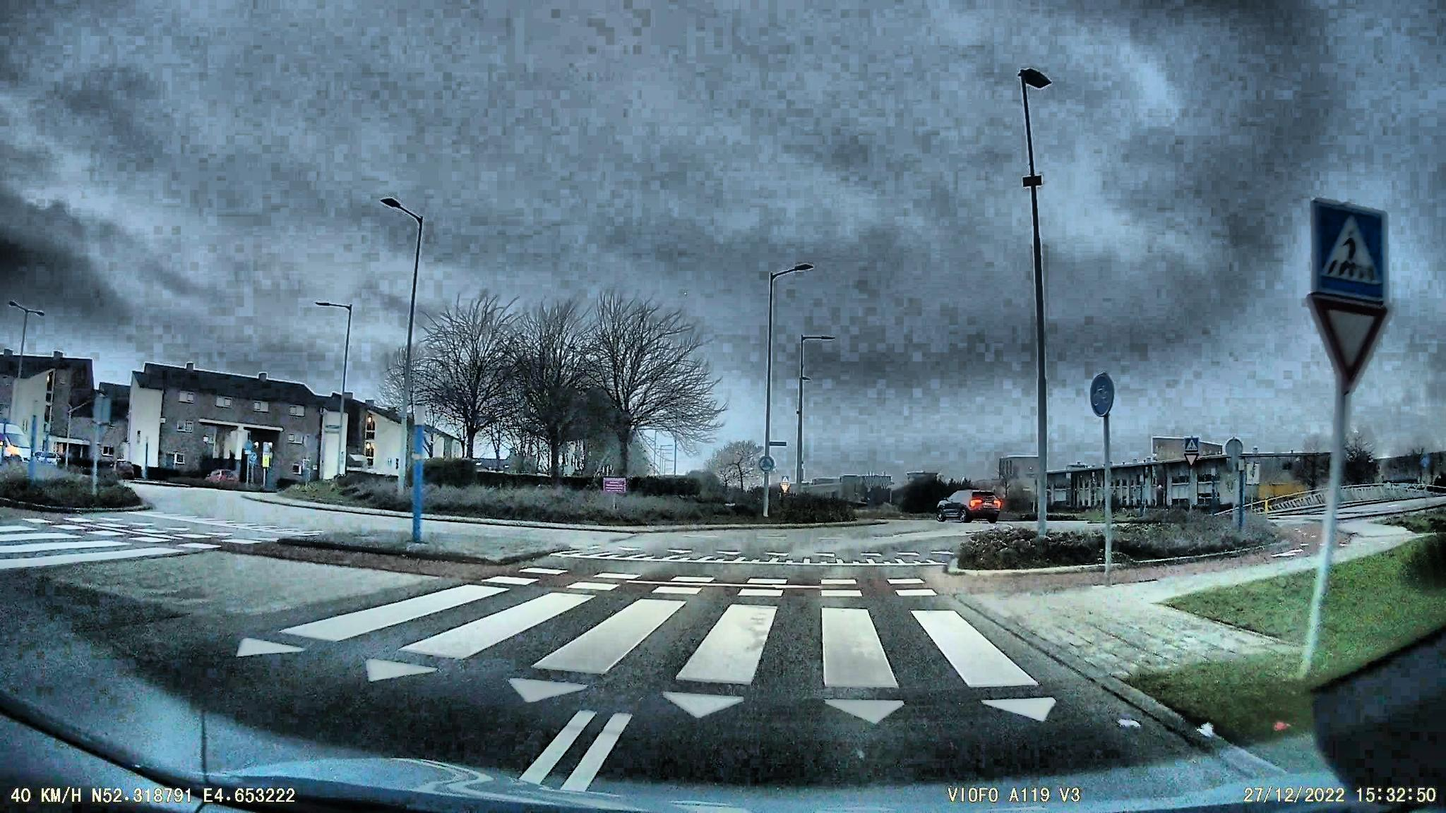Roads: (238, 525, 1240, 813)
